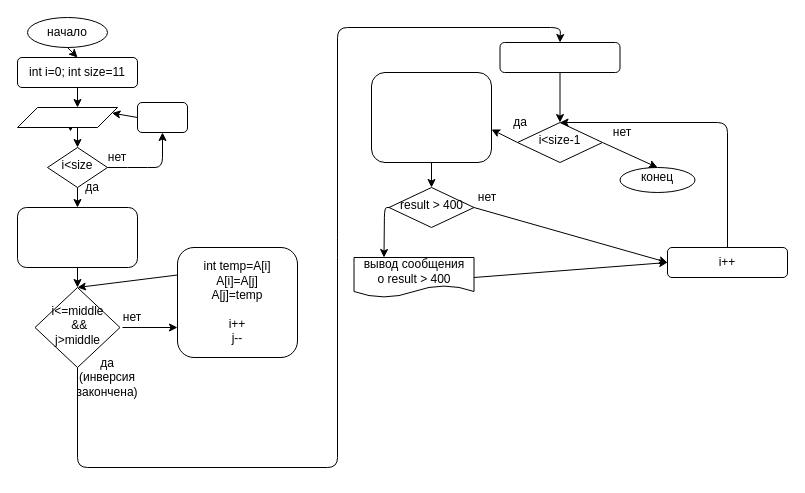
The diagram is 805 pixels wide and 493 high, and some of its shapes have lost their labels. The centre of each missing label's shape, as x and y in pixels:
"double result= sqrt(fabs(A[i] )) + 5 * pow(A[i] , 3)" goes at (x=431, y=117).
"i=0" goes at (x=559, y=57).
"i=i+1" goes at (x=162, y=117).
"int middle=(int)size/2 int i=0; int j=size-1" goes at (x=77, y=237).
"ввод A[i]" goes at (x=67, y=117).
